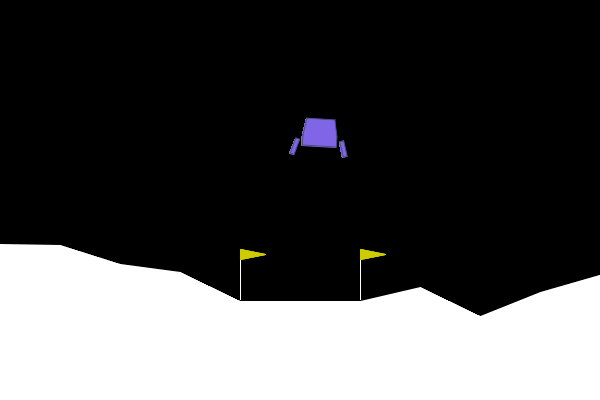lander: (288, 116, 350, 159)
